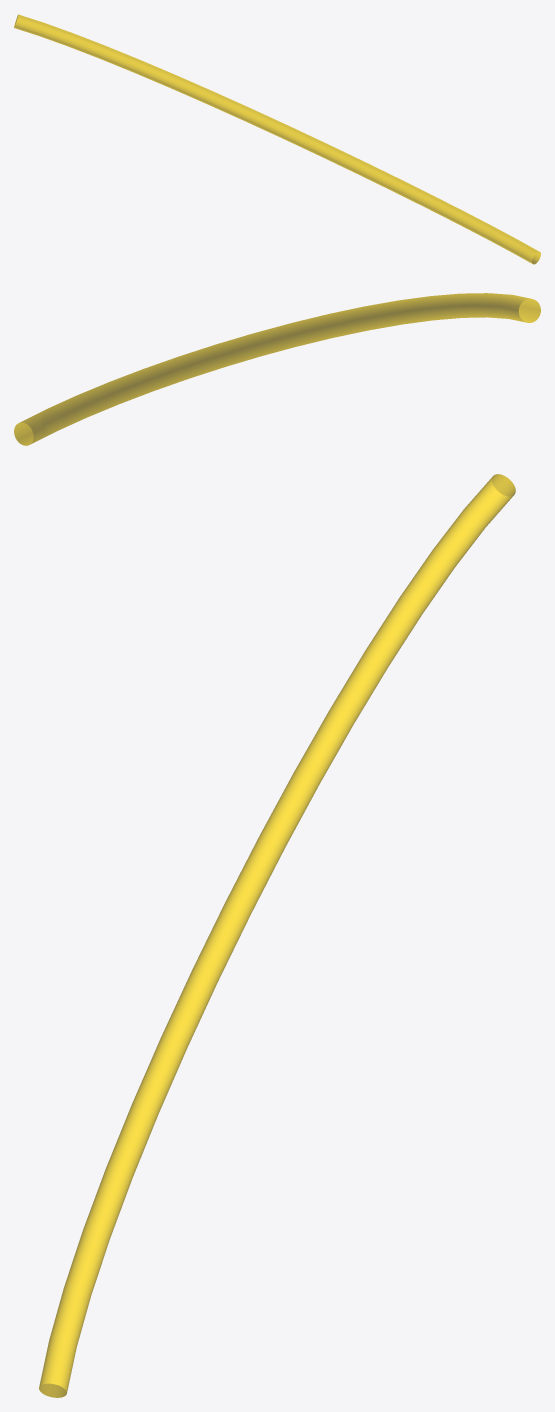
File: Event_100608114_track_62.fbx
The picture shows the model from 3 angles, top to bottom: view 1: azimuth 30°, elevation 25°; view 2: azimuth 150°, elevation 25°; view 3: azimuth 270°, elevation 25°; orthographic projection. The views are drawn at different scales.
Visible parts, largest first — view 1: Model; view 2: Model; view 3: Model.
Boxes of the visible parts, x1,y1,x2,y2 form: Model: (14, 14, 540, 264); Model: (14, 293, 540, 445); Model: (39, 474, 515, 1397).
Bounding box in the file's own units: 1.35 × 0.8211 × 0.669.
